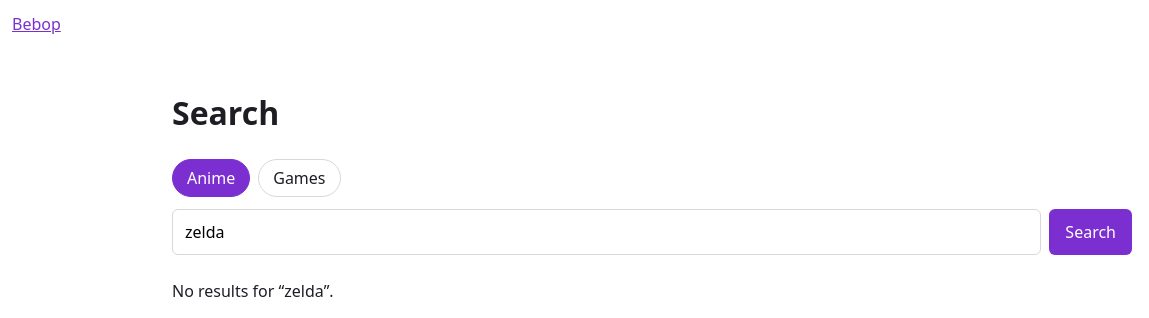
Test: SearchPage › switches to game search and keeps the query
This screenshot has width=1149, height=318.
Click the button "Games" at x=299, y=178, box x1=258 y1=159 x2=340 y2=197
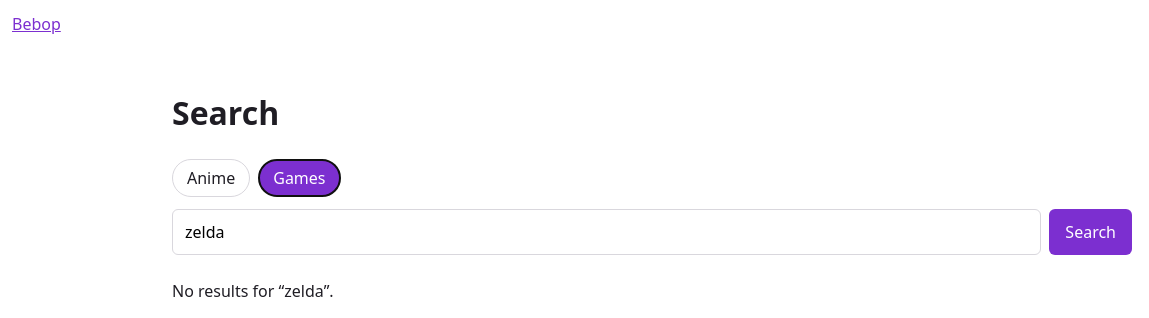
Expected: the search field named "Game title" holds "zelda", x1=172 y1=209 x2=1041 y2=255
Result: the button "Games" is pressed at x1=258 y1=159 x2=340 y2=197
